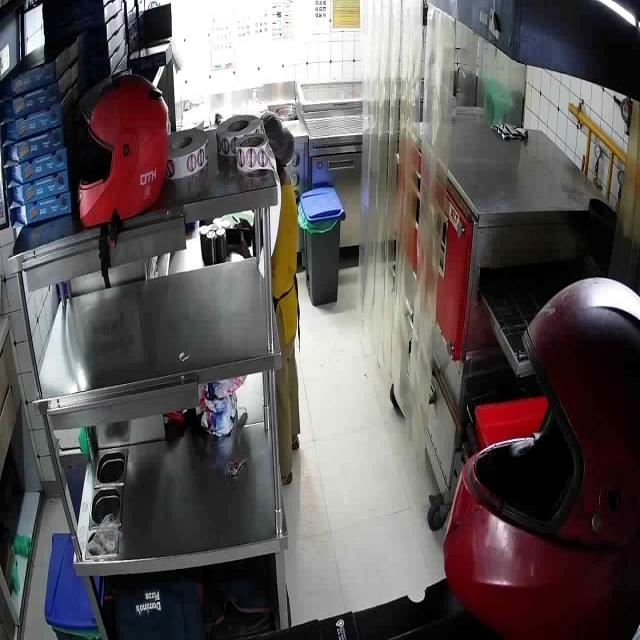helmet: (441, 278, 640, 639), (77, 71, 170, 231)
